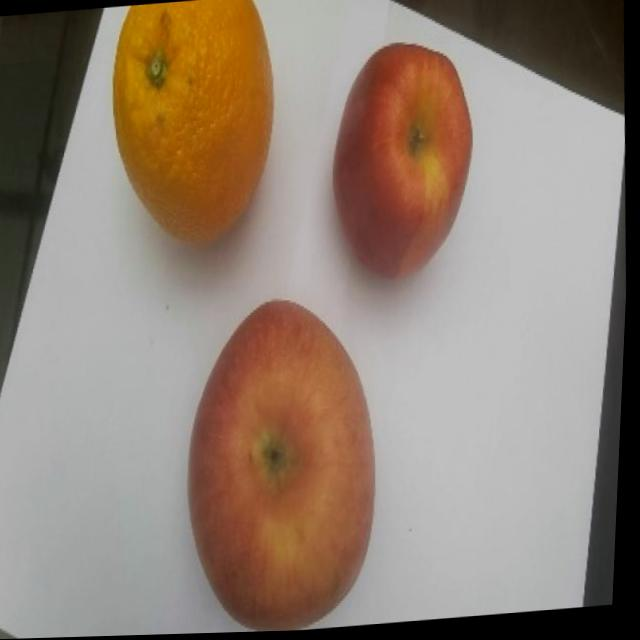Apple: (177, 294, 394, 635), (323, 40, 486, 289)
Orange: (104, 0, 287, 254)
